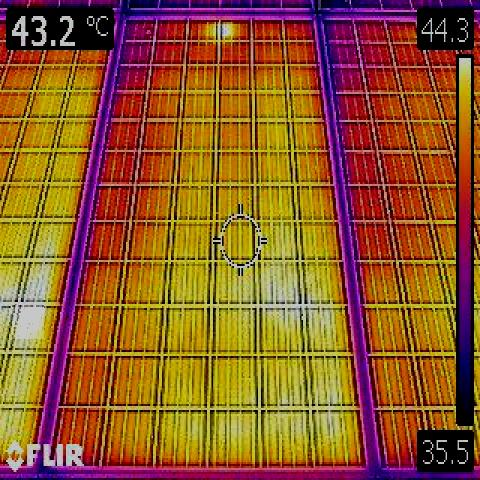fault: (12, 306, 44, 340), (202, 19, 235, 45)
